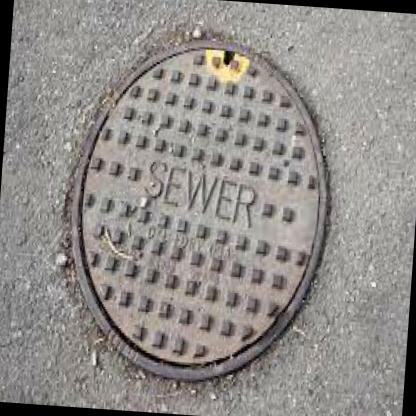manholes: (30, 0, 370, 416)
